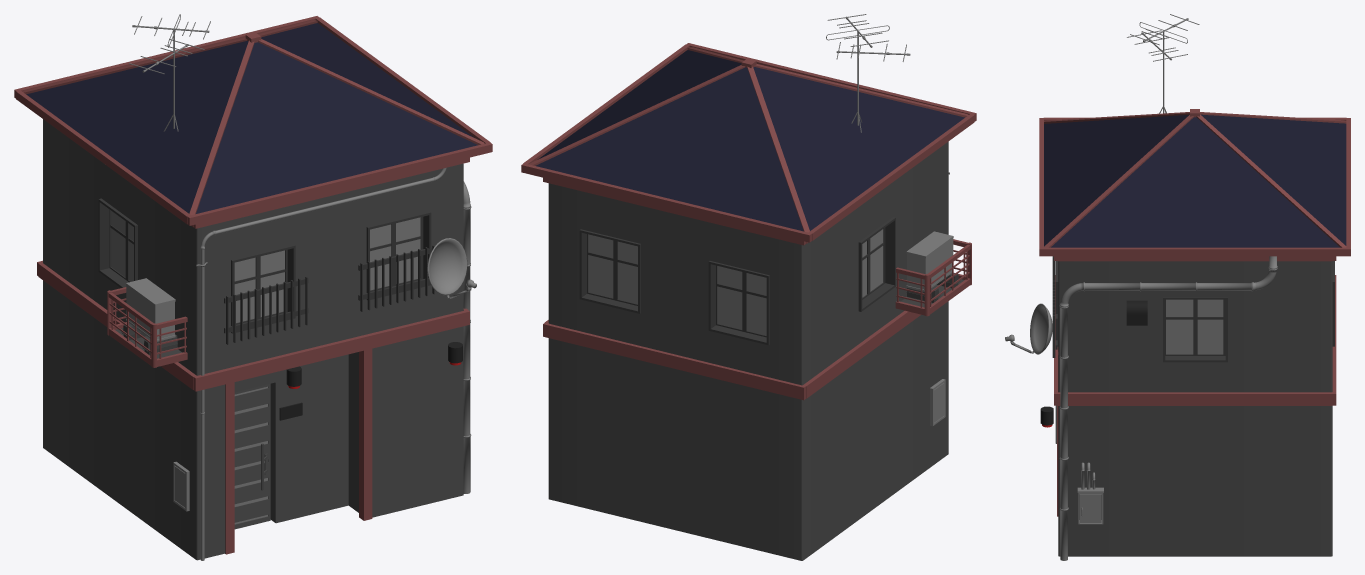
The model's file is SM_building_residental_suburbs_02.fbx.
3 renders of one model, left to right at view 1: azimuth 30°, elevation 25°; view 2: azimuth 150°, elevation 25°; view 3: azimuth 270°, elevation 25°, orthographic. The views are drawn at different scales.
Visible parts, largest first — view 1: Box54932508; view 2: Box54932508; view 3: Box54932508.
Part boxes in pixels (<box>): Box54932508: <box>14,14,492,560</box>; Box54932508: <box>521,14,976,560</box>; Box54932508: <box>1005,14,1350,560</box>.
Size of the model in its own units: 235 by 338 by 248.
